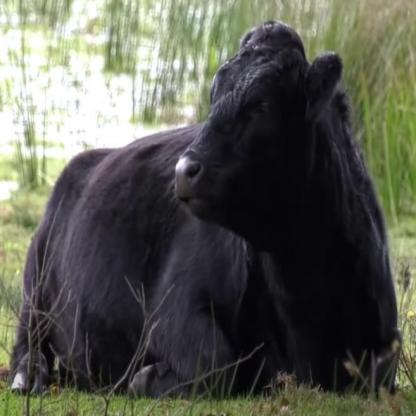cow: (12, 28, 398, 393)
